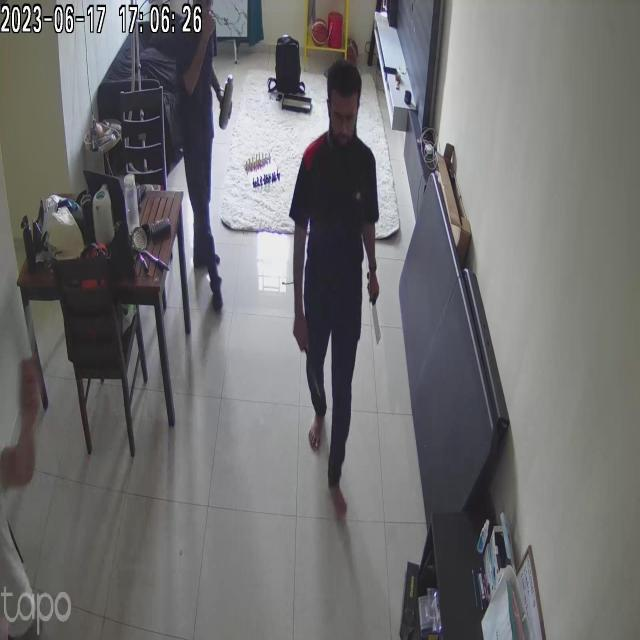Knife: (366, 289, 398, 363)
